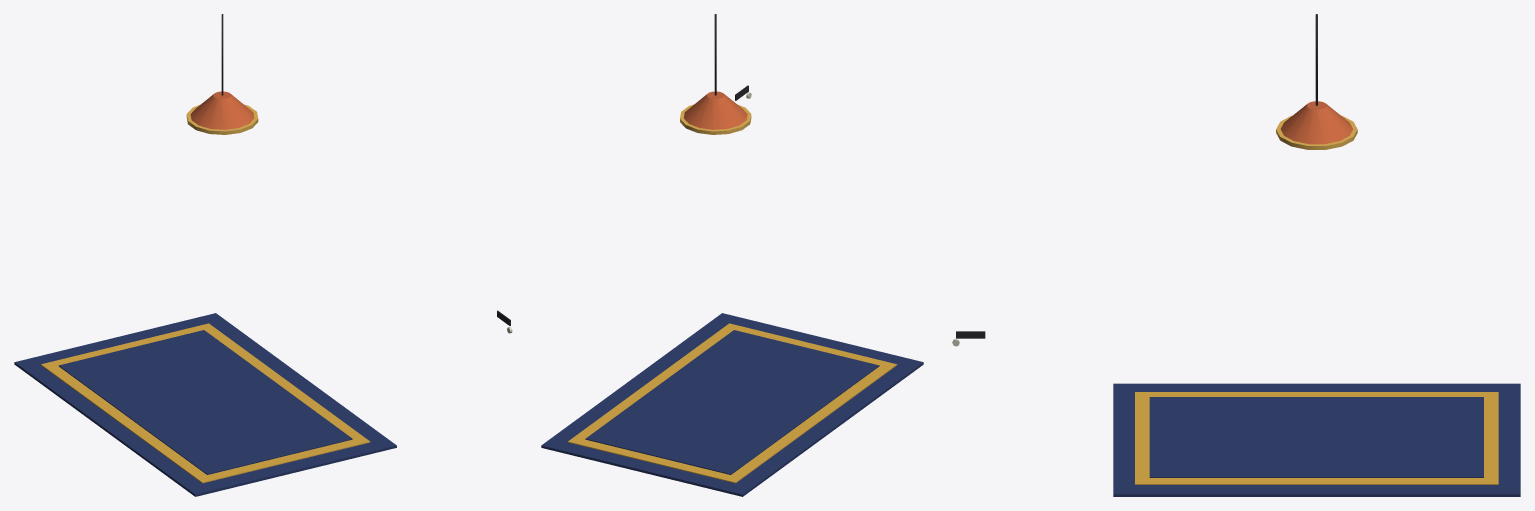
Rendered from small-things.glb.
3 views of the same model, side by side, from view 1: azimuth 30°, elevation 25°; view 2: azimuth 150°, elevation 25°; view 3: azimuth 270°, elevation 25° (orthographic). The views are drawn at different scales.
Parts seen in each view (by area): view 1: #2a3a6a, #d8a840, #c8643a_noshadow, #e0b050_noshadow; view 2: #2a3a6a, #d8a840, #c8643a_noshadow, #e0b050_noshadow; view 3: #2a3a6a, #d8a840, #c8643a_noshadow, #e0b050_noshadow.
Part boxes in pixels (left/top/right/bottom): #2a3a6a: left=14, top=313, right=396, bottom=496; #d8a840: left=41, top=323, right=370, bottom=483; #c8643a_noshadow: left=190, top=91, right=254, bottom=129; #e0b050_noshadow: left=186, top=104, right=258, bottom=134; #2a3a6a: left=541, top=313, right=923, bottom=496; #d8a840: left=567, top=323, right=897, bottom=483; #c8643a_noshadow: left=684, top=91, right=747, bottom=129; #e0b050_noshadow: left=680, top=104, right=751, bottom=134; #2a3a6a: left=1113, top=383, right=1520, bottom=496; #d8a840: left=1135, top=392, right=1498, bottom=484; #c8643a_noshadow: left=1280, top=101, right=1352, bottom=144; #e0b050_noshadow: left=1276, top=115, right=1357, bottom=149.
Size of the model in its own units: 2.2 by 3.31 by 3.91.
